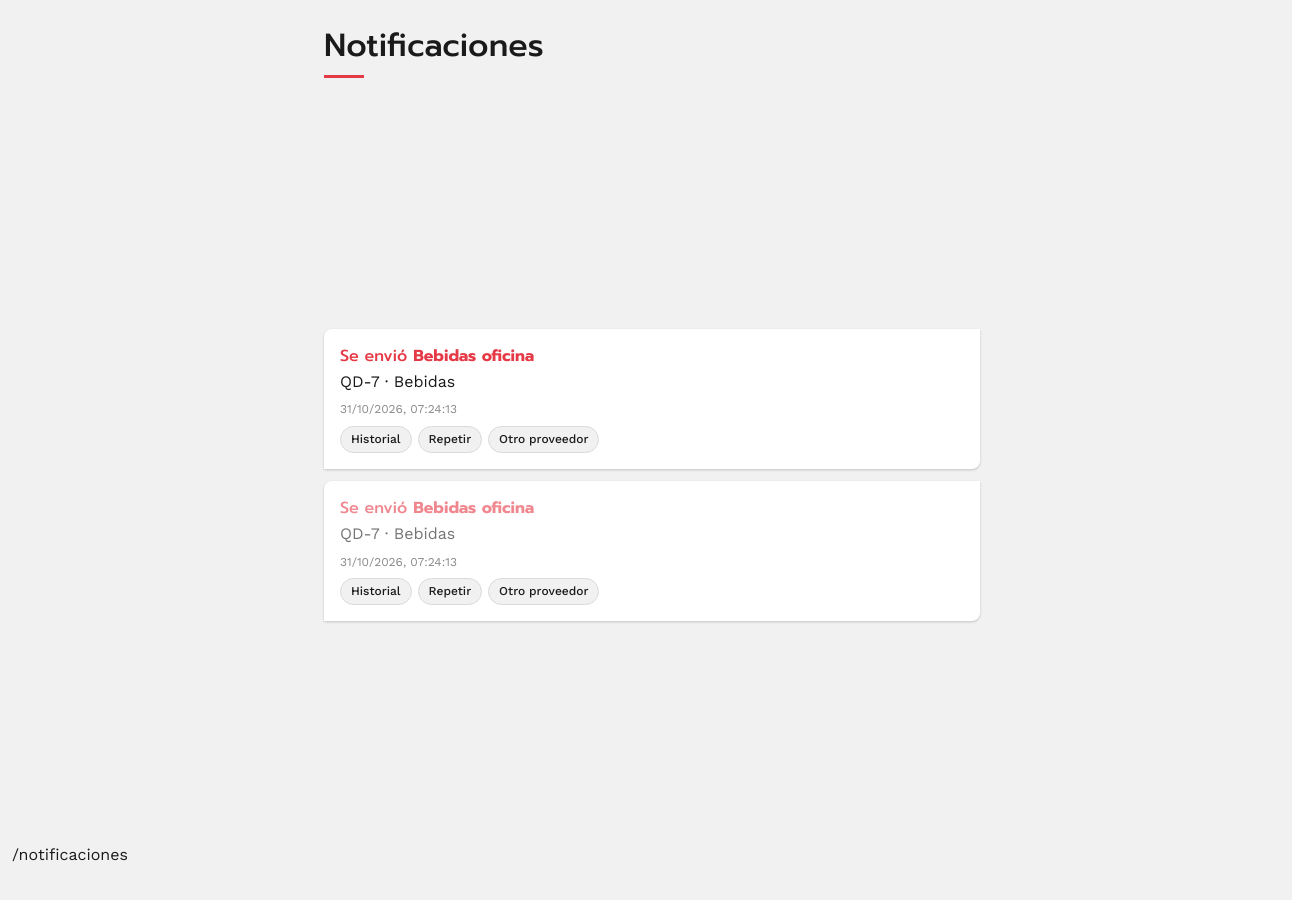
ListaNotificaciones › Repetir crea uno nuevo y lo deja abierto en su rubro
Click the button with aria-label "repetir pedido": (450, 440) [418, 426, 482, 453]
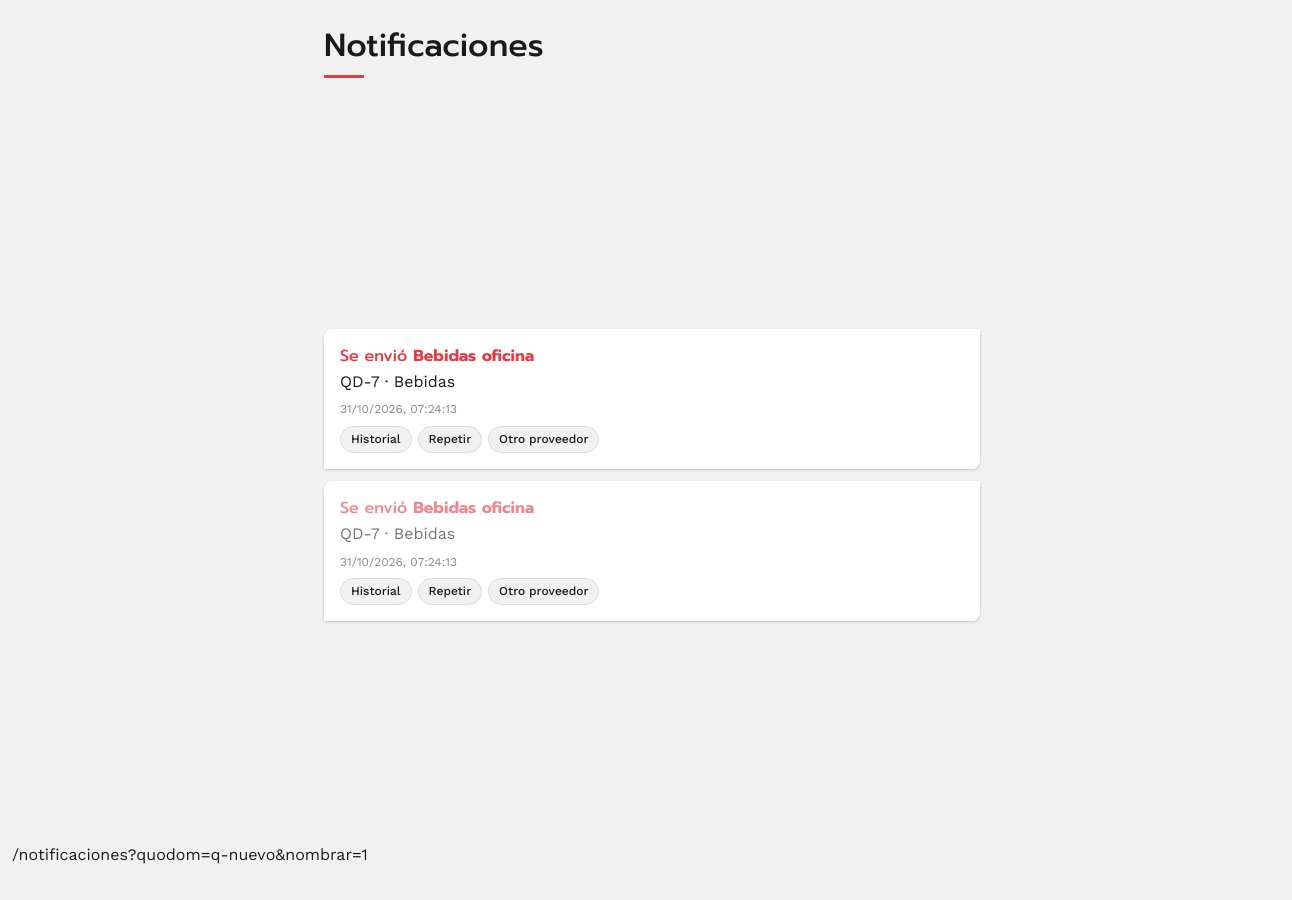
Expected: the text with test id "ubicacion" reads "/notificaciones?quodom=q-nuevo&nombrar=1", [12, 845, 368, 864]
